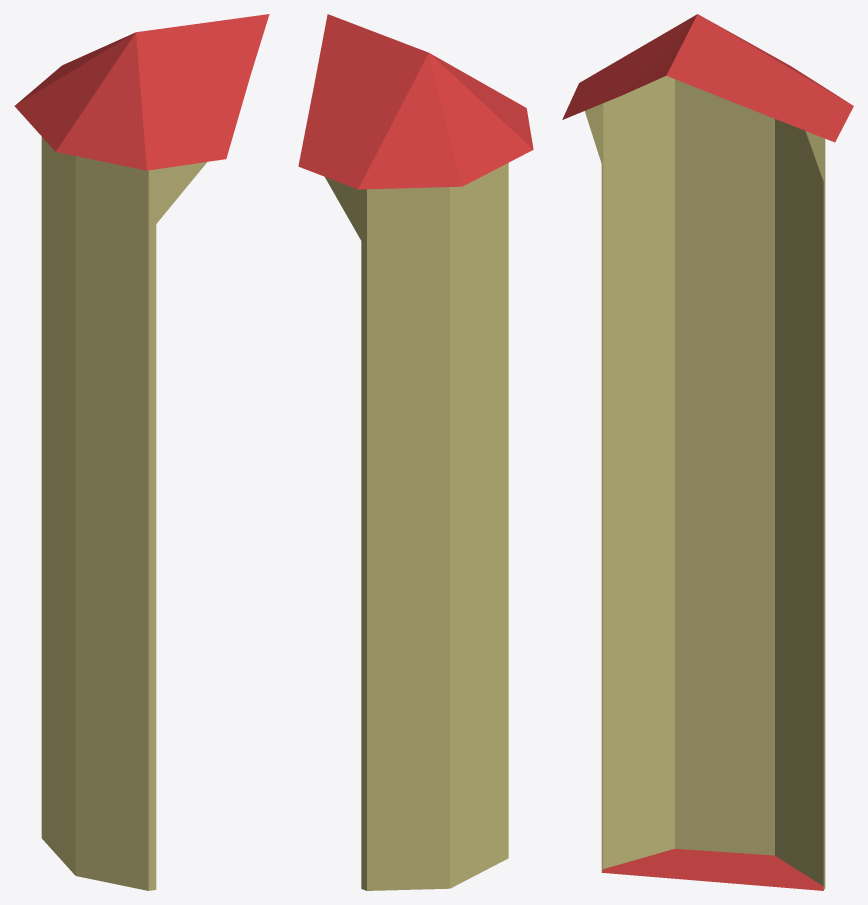
3 renders of one model, left to right at view 1: azimuth 30°, elevation 25°; view 2: azimuth 150°, elevation 25°; view 3: azimuth 270°, elevation 25°, orthographic. The views are drawn at different scales.
Parts seen in each view (by area): view 1: group_5, group_3, group_4; view 2: group_5, group_3; view 3: group_5, group_3, group_6.
Boxes of the visible parts, bbox=[...] form: group_5: bbox=[41, 137, 206, 890]; group_3: bbox=[14, 14, 269, 170]; group_4: bbox=[145, 129, 232, 169]; group_5: bbox=[325, 163, 508, 890]; group_3: bbox=[298, 14, 533, 189]; group_5: bbox=[585, 75, 825, 890]; group_3: bbox=[562, 14, 853, 142]; group_6: bbox=[602, 848, 823, 890].
Bounding box in the file's own units: 4.89 × 5.45 × 17.97.
